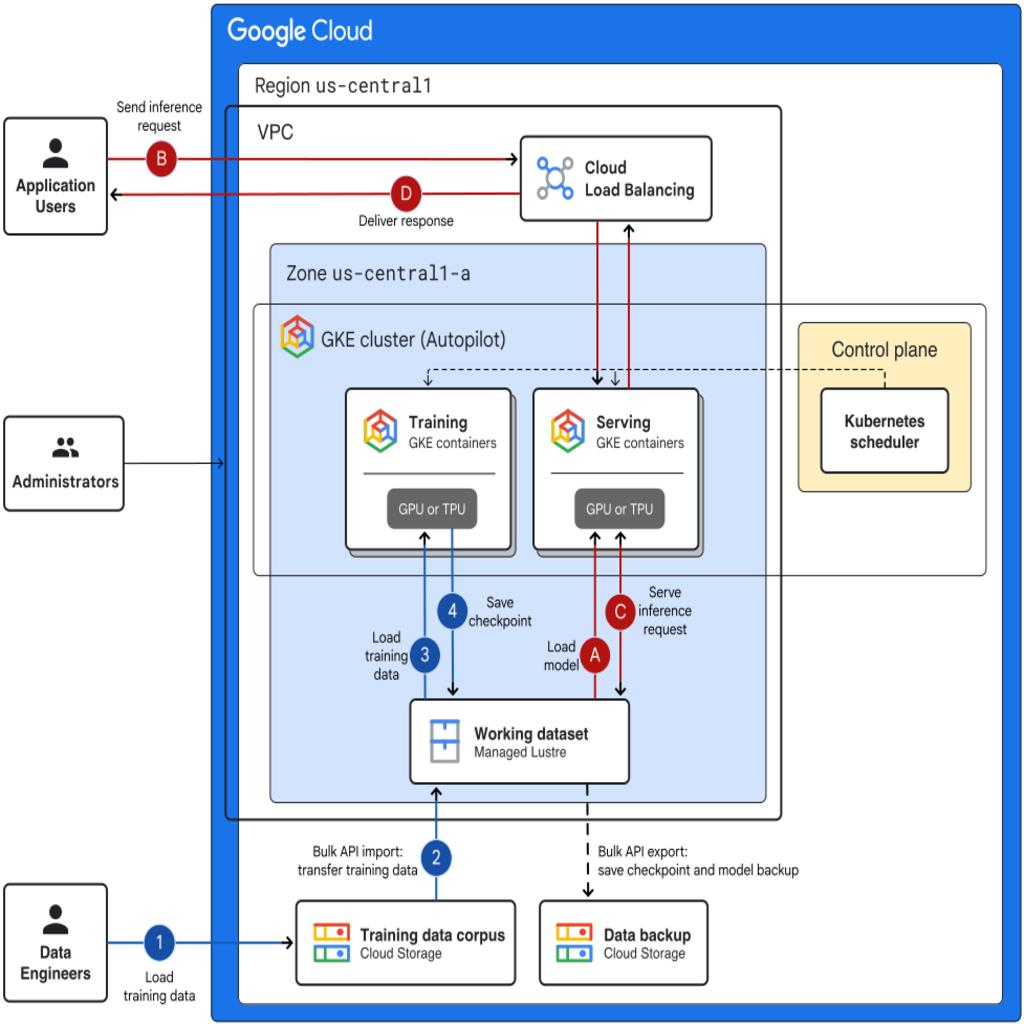actor: (4, 120, 107, 236), (4, 882, 107, 998), (4, 417, 123, 511)
api_gateway: (520, 136, 715, 220)
compute: (533, 386, 702, 552), (346, 386, 514, 552), (816, 384, 956, 478)
data_flow: (104, 156, 518, 161), (104, 190, 518, 195), (625, 220, 630, 384), (432, 770, 438, 898), (584, 770, 590, 898), (106, 938, 292, 942), (420, 551, 426, 668), (594, 220, 598, 384), (449, 551, 454, 668), (617, 551, 622, 668), (594, 551, 598, 668), (123, 462, 225, 466)
database_storage: (293, 898, 516, 982), (406, 700, 628, 784), (536, 898, 708, 982)
trust_boundary: (205, 5, 1024, 1019), (220, 95, 1008, 990), (222, 105, 784, 819), (268, 242, 766, 802), (253, 303, 986, 574), (788, 303, 984, 574)
